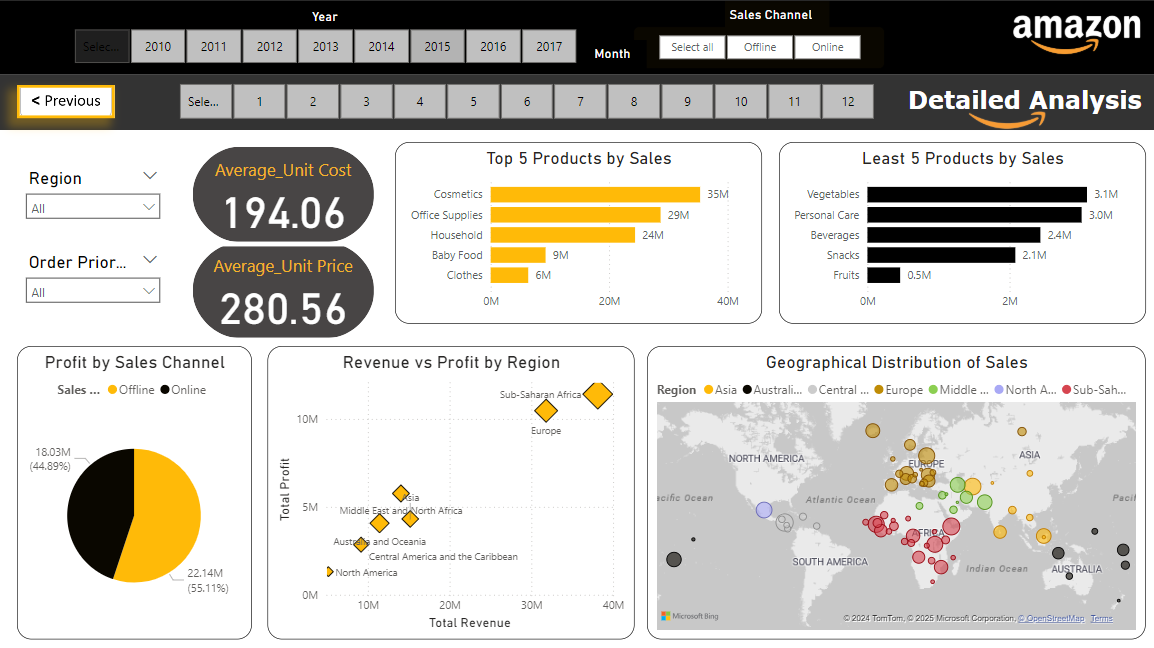

This screenshot's page, from the dashboard's own definition file:
{"tool":"powerbi","page":{"name":"Amazon Detailed Analysis","canvas":[1280,720],"ordinal":1},"visuals":[{"type":"map","title":"Geographical Distribution of Sales","fields":{"Category":["Sheet1 (2).Country"],"Series":["Sheet1 (2).Region"],"Size":["Sum(Sheet1 (2).Total Sales)"]},"box":[714.9,380.8,550.9,324.1],"z":0},{"type":"shape","box":[0,0,1280.1,81.3],"z":1000},{"type":"shape","box":[0,81.2,1280.5,61.3],"z":2000},{"type":"image","box":[1114.8,5,152.4,72.9],"z":3000},{"type":"textbox","box":[998.5,87.1,281.5,54.7],"z":4000},{"type":"image","box":[1043,87.1,129.6,97.2],"z":5000},{"type":"barChart","title":"Least 5 Products by Sales","fields":{"Y":["Sum(Sheet1 (2).Total Sales)"],"Category":["Sheet1 (2).Item Type"]},"box":[860.8,155.9,405.1,200.5],"z":6000},{"type":"barChart","title":"Top 5 Products by Sales","fields":{"Y":["Sum(Sheet1 (2).Total Sales)"],"Category":["Sheet1 (2).Item Type"]},"box":[437.5,155.9,405.1,200.5],"z":7000},{"type":"actionButton","box":[19.9,92.8,107.7,36.4],"z":8000},{"type":"scatterChart","title":"Revenue vs Profit by Region","fields":{"X":["Sum(Sheet1 (2).Total Revenue)"],"Y":["Sum(Sheet1 (2).Total Profit)"],"Category":["Sheet1 (2).Region"],"Size":["Sum(Sheet1 (2).Units Sold)"]},"box":[295.7,380.8,405.1,324.1],"z":9000},{"type":"pieChart","title":"Profit by Sales Channel","fields":{"Category":["Sheet1 (2).Sales Channel"],"Y":["Sum(Sheet1 (2).Total Profit)"]},"box":[20.3,380.8,259.2,324.1],"z":10000},{"type":"cardVisual","fields":{"Data":["Avg(Sheet1 (2).Unit Price)"]},"box":[208.6,261.3,210.6,115.4],"z":11000},{"type":"cardVisual","fields":{"Data":["Avg(Sheet1 (2).Unit Cost)"]},"box":[208.6,155.9,210.6,115.4],"z":12000},{"type":"slicer","fields":{"Values":["Sheet1 (2).Order Priority"]},"box":[20.3,271.4,168.1,70.9],"z":13000},{"type":"slicer","fields":{"Values":["Sheet1 (2).Sales Channel"]},"box":[700.8,28.4,277.5,46.6],"z":14000},{"type":"slicer","fields":{"Values":["Sheet1 (2).Region"]},"box":[20.3,178.2,168.1,70.9],"z":15000},{"type":"slicer","title":"Year","fields":{"Values":["Sheet1 (2).Year"]},"box":[58.7,8.1,603.5,66.8],"z":16000},{"type":"textbox","box":[802,0,115.4,36.5],"z":17000},{"type":"slicer","fields":{"Values":["Sheet1 (2).Month"]},"box":[174.2,85.1,816.2,52.7],"z":18000},{"type":"textbox","box":[652.2,42.5,62.8,32.4],"z":19000}]}

Visuals, with their boxes in screenshot pixels (x1, y1, x2, y2), scaled from the page's 1280x720 canvas onto the 1154x648 screenshot:
"Geographical Distribution of Sales" map: left=645, top=343, right=1141, bottom=634
shape: left=0, top=0, right=1153, bottom=73
shape: left=0, top=73, right=1153, bottom=128
image: left=1005, top=4, right=1142, bottom=70
textbox: left=900, top=78, right=1153, bottom=128
image: left=940, top=78, right=1057, bottom=166
"Least 5 Products by Sales" barChart: left=776, top=140, right=1141, bottom=321
"Top 5 Products by Sales" barChart: left=394, top=140, right=760, bottom=321
actionButton: left=18, top=84, right=115, bottom=116
"Revenue vs Profit by Region" scatterChart: left=267, top=343, right=632, bottom=634
"Profit by Sales Channel" pieChart: left=18, top=343, right=252, bottom=634
cardVisual - Avg(Sheet1 (2).Unit Price): left=188, top=235, right=378, bottom=339
cardVisual - Avg(Sheet1 (2).Unit Cost): left=188, top=140, right=378, bottom=244
slicer - Sheet1 (2).Order Priority: left=18, top=244, right=170, bottom=308
slicer - Sheet1 (2).Sales Channel: left=632, top=26, right=882, bottom=68
slicer - Sheet1 (2).Region: left=18, top=160, right=170, bottom=224
"Year" slicer: left=53, top=7, right=597, bottom=67
textbox: left=723, top=0, right=827, bottom=33
slicer - Sheet1 (2).Month: left=157, top=77, right=893, bottom=124
textbox: left=588, top=38, right=645, bottom=67
